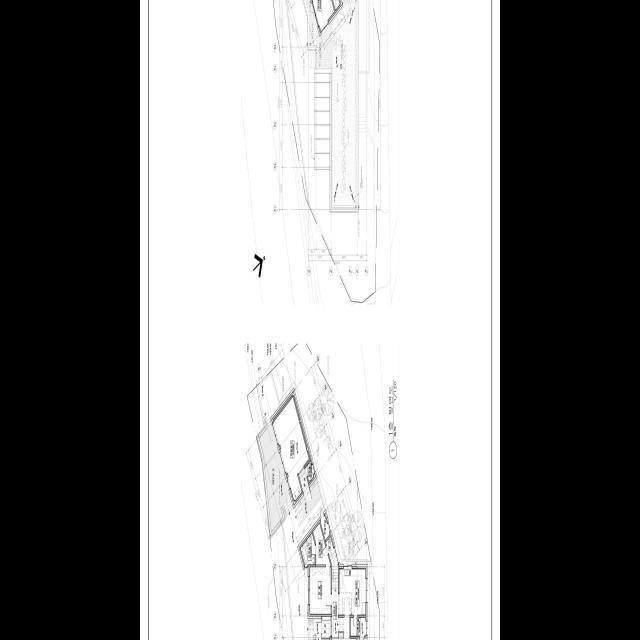background: (140, 0, 500, 640)
space_bedroom: (310, 567, 331, 613), (313, 0, 334, 29)
space_dressroom: (313, 523, 330, 564)
space_front: (299, 467, 309, 492), (322, 616, 331, 637)
space_kitchen: (339, 568, 366, 614)
space_living_room: (332, 566, 356, 640)
space_other: (273, 396, 309, 484), (326, 536, 338, 566), (351, 617, 366, 635), (320, 514, 330, 539)
space_toilet: (301, 533, 315, 564), (290, 474, 302, 500), (305, 460, 314, 482)
